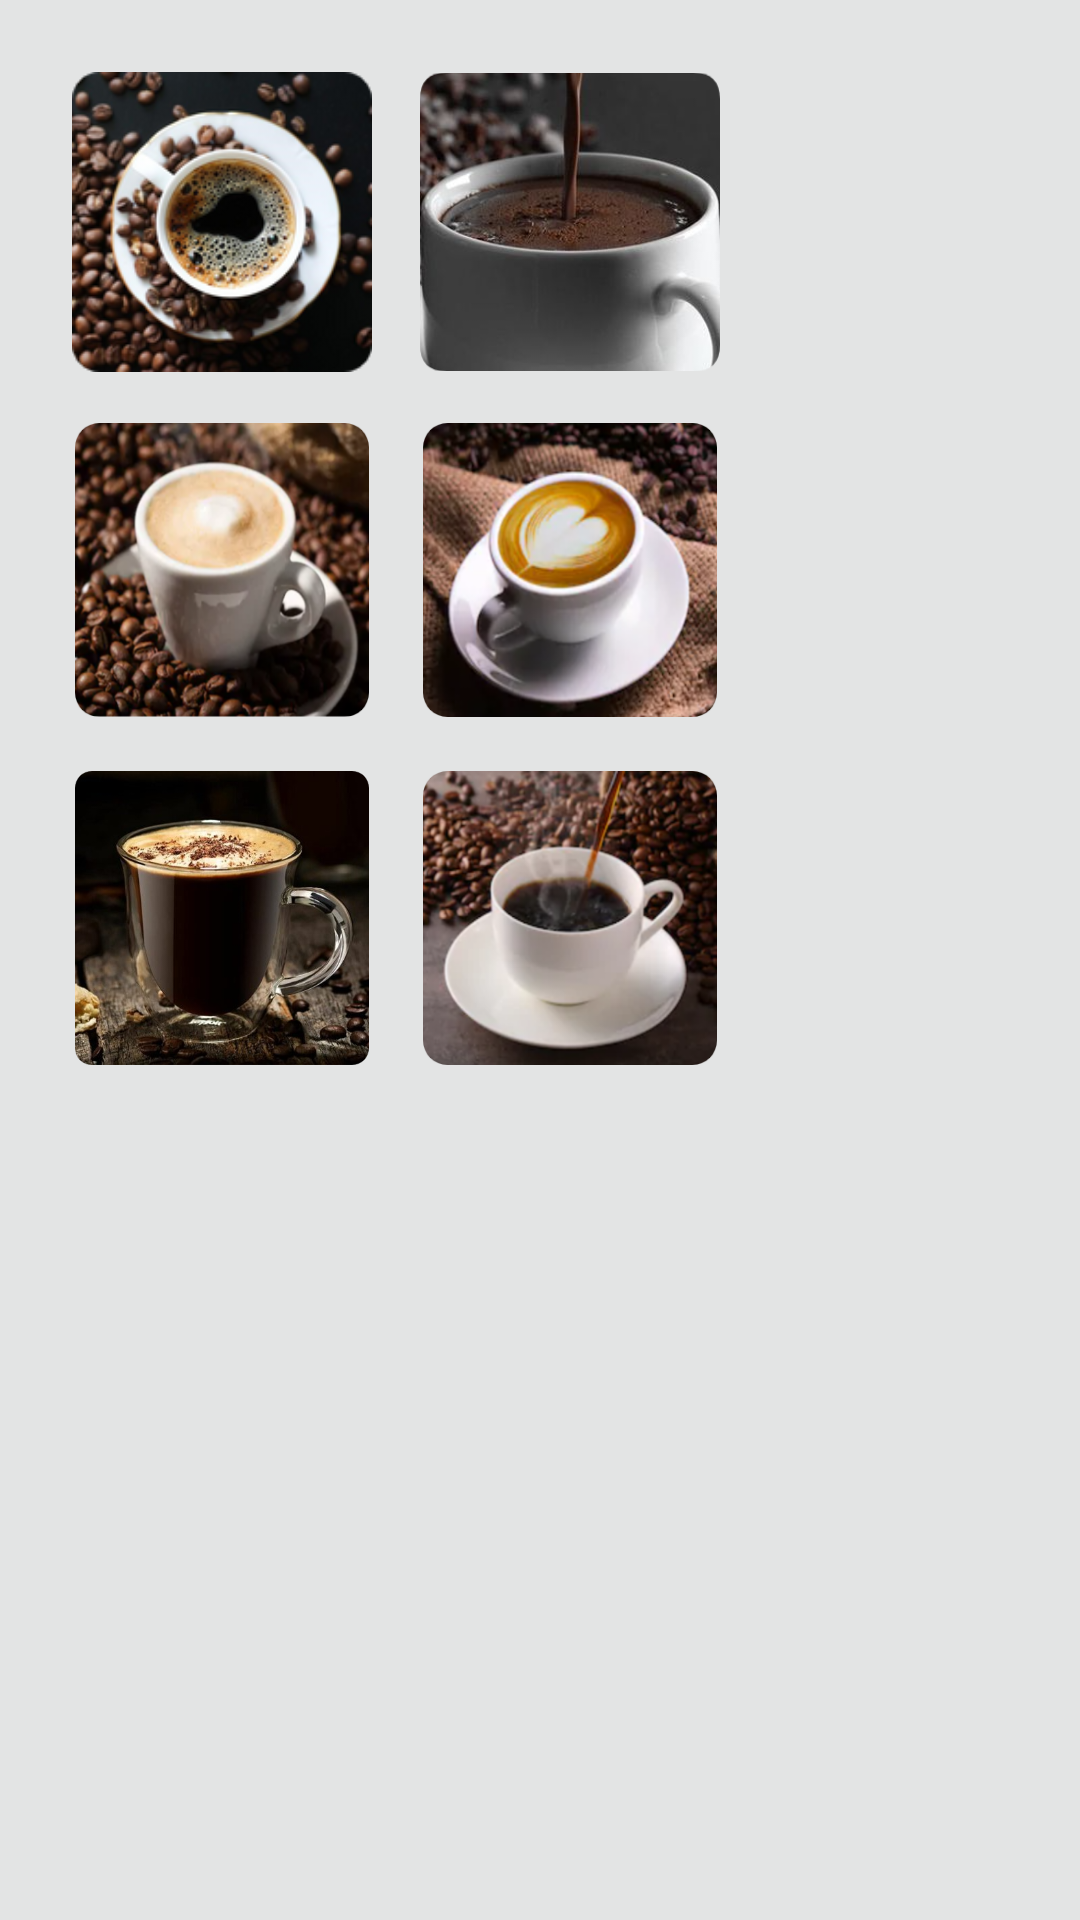

Screen size 1080 x 1920. Icon name, then its center in pixels as [x,y]:
coffee pic: [222,222]
coffeefive pic: [222,918]
coffeefour pic: [570,570]
coffeesix pic: [570,918]
coffeethree pic: [222,570]
coffeetwo pic: [570,222]
